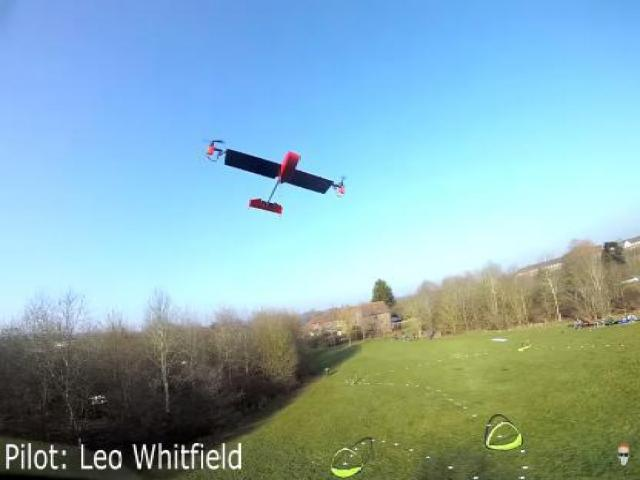uav: (200, 134, 349, 224)
